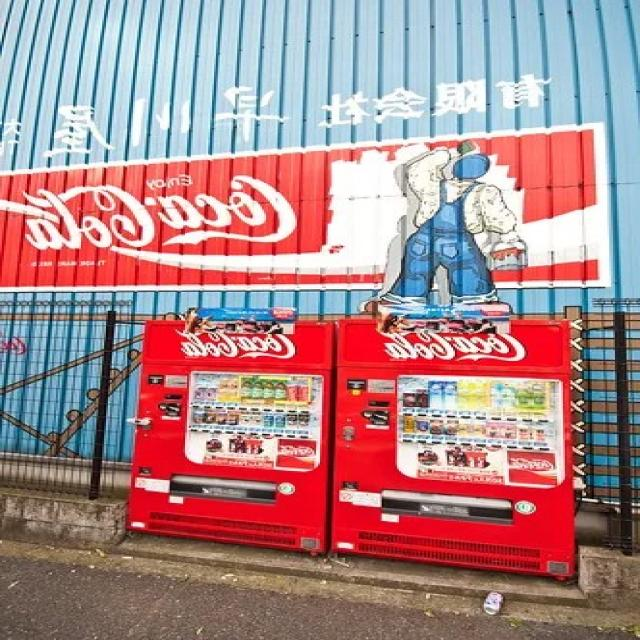coca cola: (6, 164, 301, 265), (372, 323, 532, 370)
